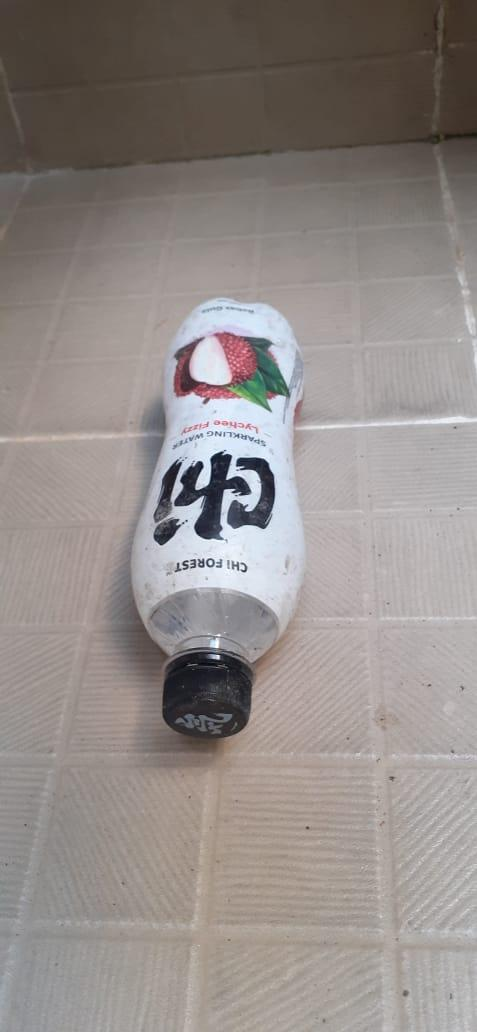Plastik: (134, 295, 310, 743)
